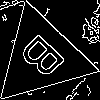B: (17, 32, 74, 88)
